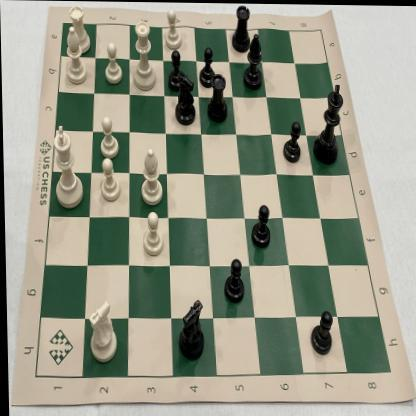black-bishop: (241, 30, 266, 93)
black-king: (309, 76, 347, 166)
black-knight: (172, 294, 207, 363), (171, 71, 199, 128)
black-pawn: (306, 301, 335, 359), (246, 198, 274, 251), (220, 254, 245, 306), (278, 116, 304, 164), (196, 42, 219, 90), (166, 43, 187, 94)
black-rook: (204, 71, 233, 125), (226, 3, 254, 56)
white-bishop: (137, 145, 165, 208), (63, 24, 89, 88)
white-king: (49, 122, 87, 212)
white-knight: (83, 296, 120, 366)
white-pawn: (97, 154, 122, 206), (139, 208, 164, 260), (97, 113, 121, 162), (101, 40, 125, 86), (162, 5, 184, 53)
white-queen: (130, 16, 158, 93)
white-rook: (67, 1, 94, 56)
